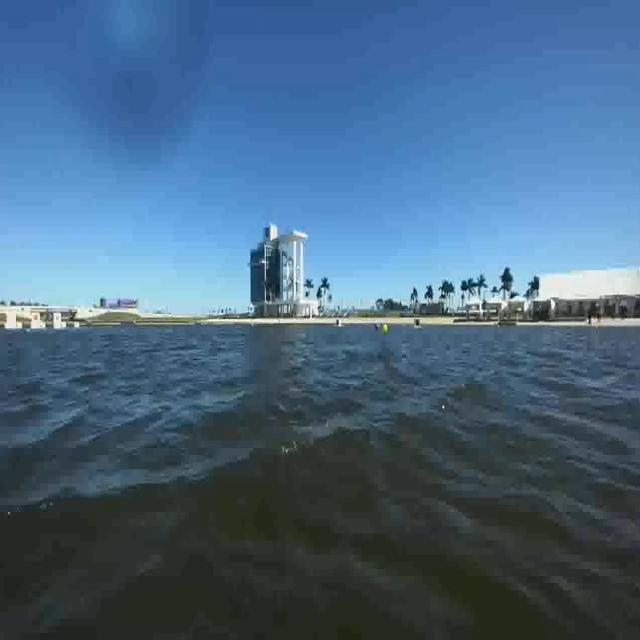yellow-buoy: (383, 322, 389, 334)
